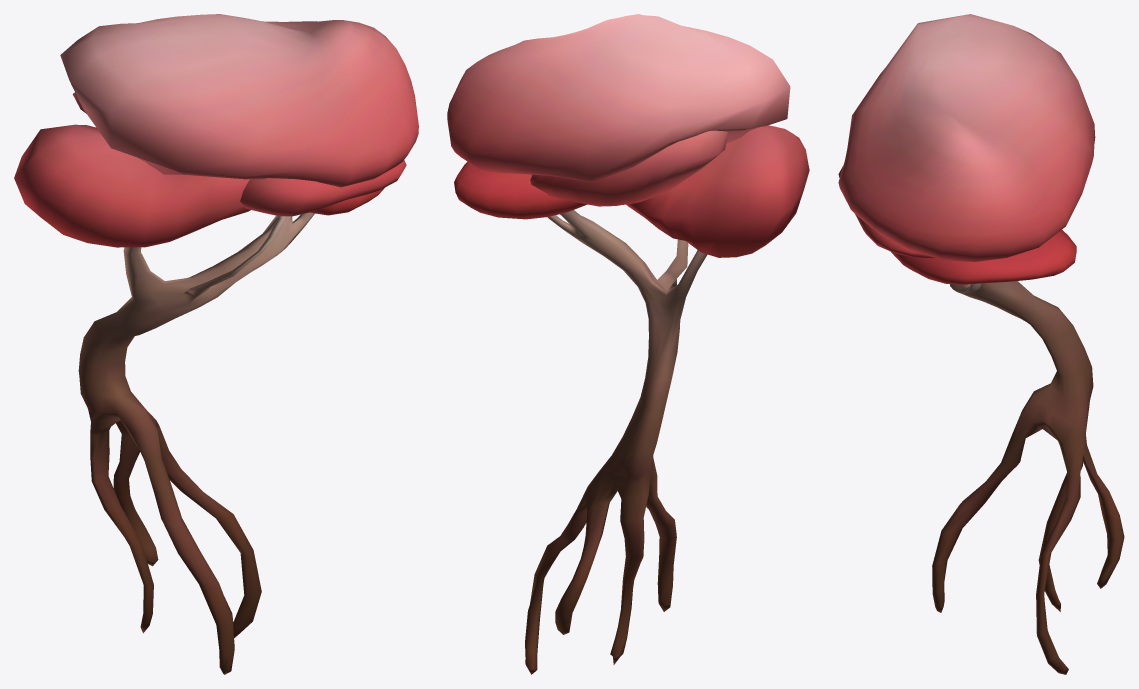
Rendered from Tree5.fbx.
3 renders of one model, left to right at view 1: azimuth 30°, elevation 25°; view 2: azimuth 150°, elevation 25°; view 3: azimuth 270°, elevation 25°, orthographic. The views are drawn at different scales.
Visible parts, largest first — view 1: Tree5; view 2: Tree5; view 3: Tree5.
Boxes of the visible parts, x1,y1,x2,y2 form: Tree5: (14,14,418,674); Tree5: (447,14,809,674); Tree5: (838,14,1124,674).
Size of the model in its own units: 864 by 1517 by 661.
1 material, 1 textured.
